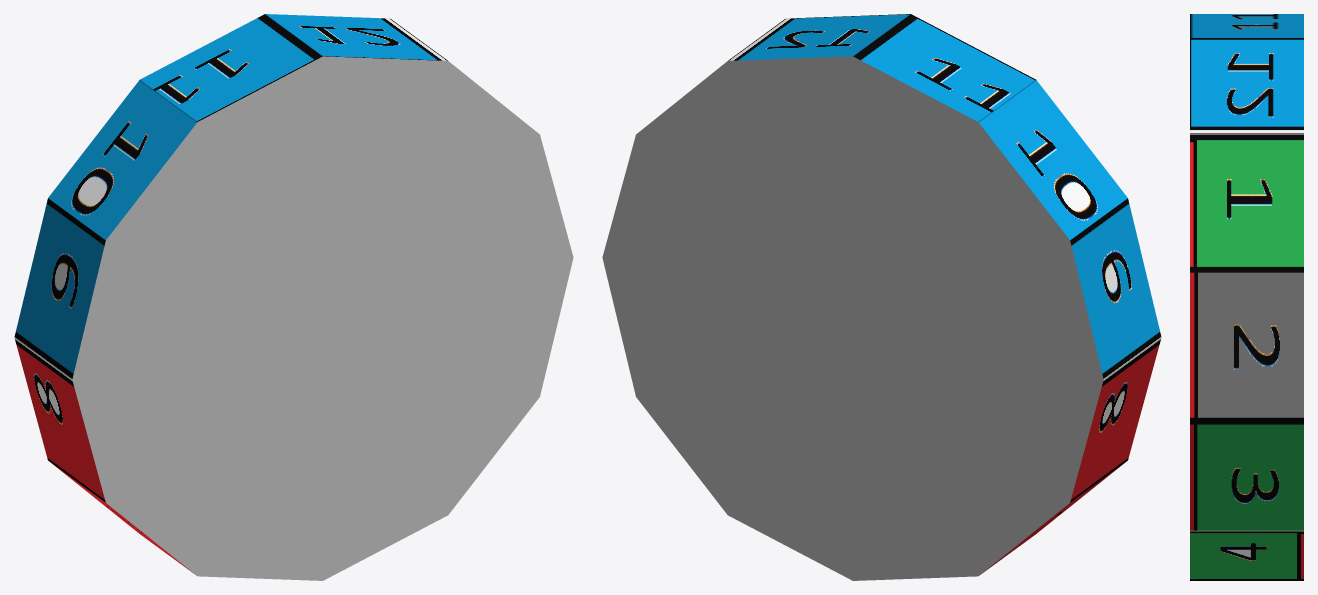
File: reel.obj
3 views of the same model, side by side, from view 1: azimuth 30°, elevation 25°; view 2: azimuth 150°, elevation 25°; view 3: azimuth 270°, elevation 25° (orthographic).
Parts seen in each view (by area): view 1: Cylinder_Cylinder.001_None_NONE, Cylinder_Cylinder.001_None; view 2: Cylinder_Cylinder.001_None_NONE, Cylinder_Cylinder.001_None; view 3: Cylinder_Cylinder.001_None.
Part boxes in pixels (x1,y1,x2,y2): Cylinder_Cylinder.001_None_NONE: (72,56,573,580); Cylinder_Cylinder.001_None: (14,14,447,574); Cylinder_Cylinder.001_None_NONE: (602,56,1103,580); Cylinder_Cylinder.001_None: (728,14,1161,574); Cylinder_Cylinder.001_None: (1190,14,1303,580).
Size of the model in its own units: 5 by 5 by 1.
